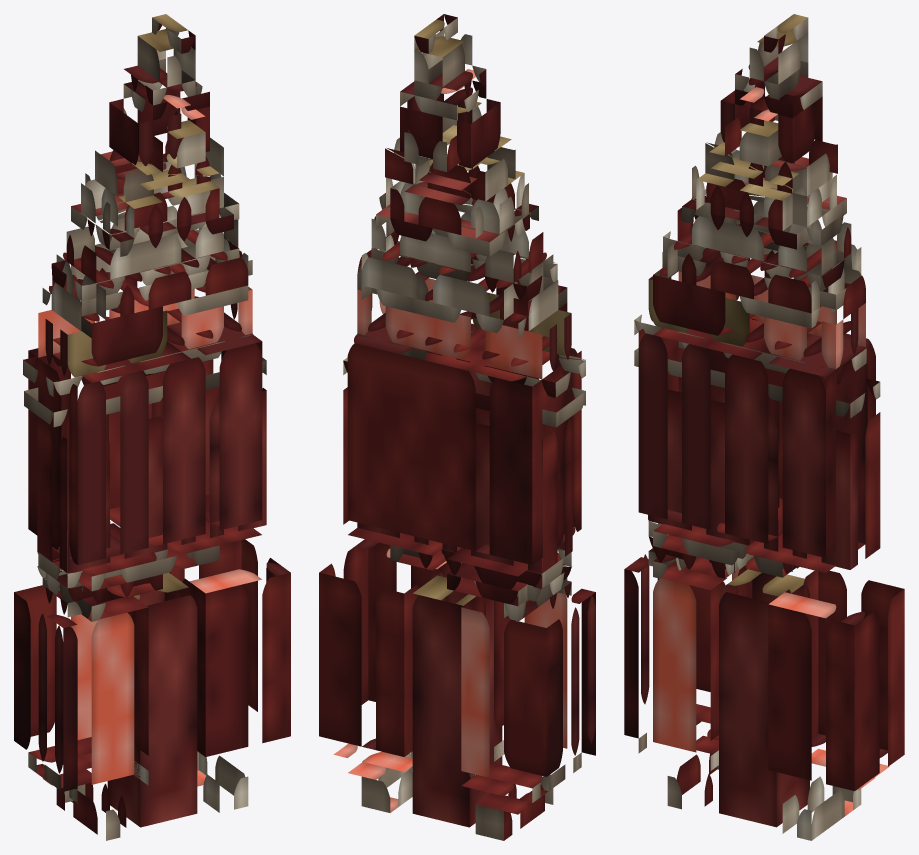
Rendered from fangs.obj.
3 views of the same model, side by side, from view 1: azimuth 30°, elevation 25°; view 2: azimuth 150°, elevation 25°; view 3: azimuth 330°, elevation 25° (orthographic).
Parts seen in each view (by area): view 1: lit; view 2: lit; view 3: lit.
Part boxes in pixels (box(x1,y1,x2,y2)): lit: box(14, 14, 290, 840); lit: box(319, 14, 595, 840); lit: box(624, 14, 904, 840).
Size of the model in its own units: 0.5 by 1.63 by 0.1875.
